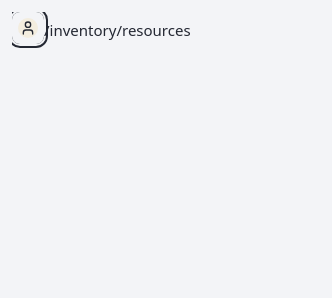
Test: UserMenu global controls › still clears local state and returns to login when server sign-out fails
Press ArrowDown in the button named "User menu", box [12,12,44,44]
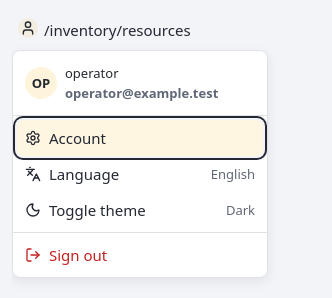
Check: the menu is shown, box [12,50,268,278]
Click the menu item "Sign out" at [66, 255], box [25,245,107,265]
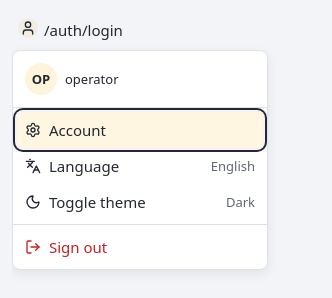
Check: the text with test id "location" reads "/auth/login", box [44,20,123,40]
